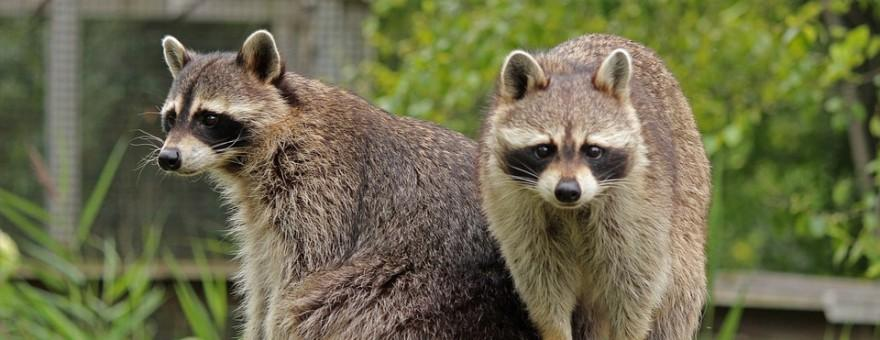raccoon: (158, 32, 593, 340), (475, 33, 711, 340)
